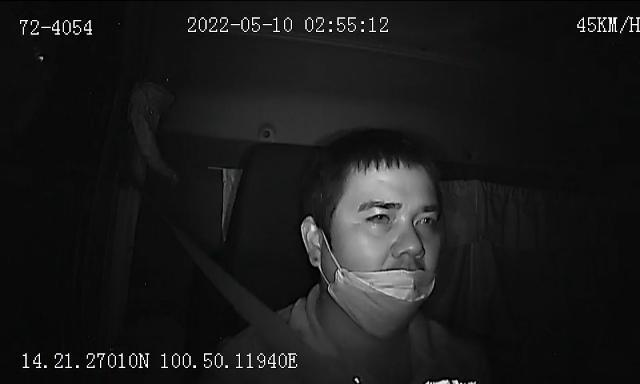SafeDriving: (360, 204, 399, 228), (410, 207, 441, 231)
Seatbelt: (184, 242, 334, 370)
